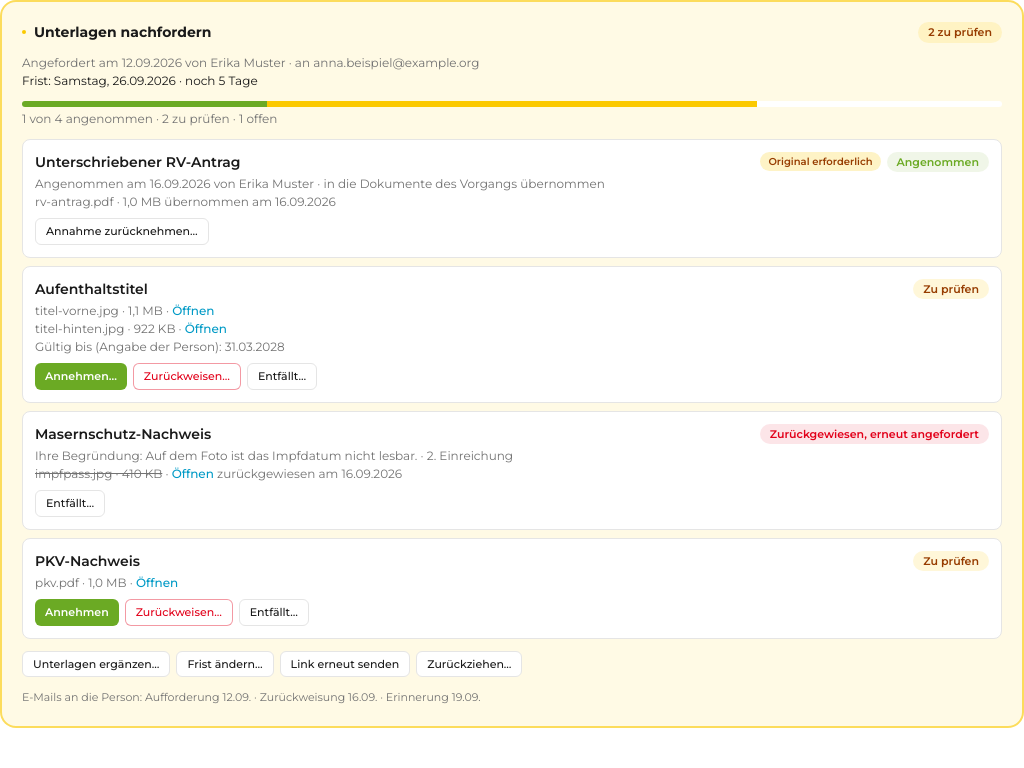
Test: Aktionen ausführen › Verbindungsfehler: kein Neuladen, rote Leiste
The width and height of the screenshot is (1024, 768).
Click the button with aria-label "Annehmen – PKV-Nachweis" at coordinates (77, 612), box left=35, top=599, right=119, bottom=626
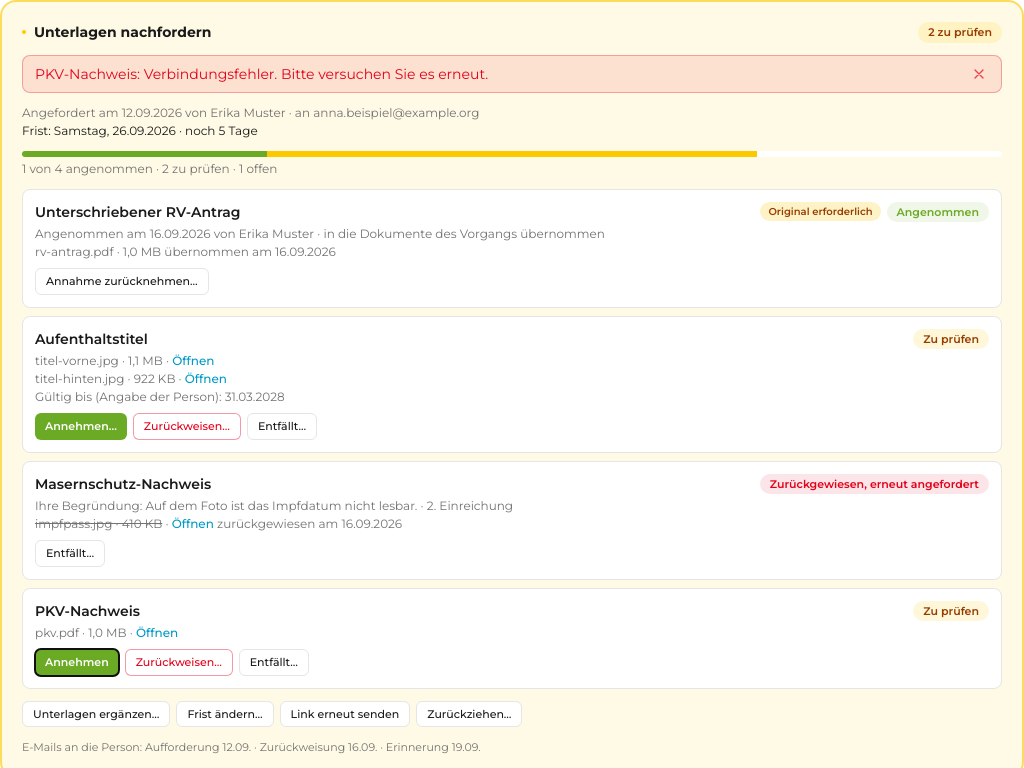
Expected: the message "PKV-Nachweis: Verbindungsfehler. Bitte versuchen Sie es erneut." is shown, left=22, top=54, right=1002, bottom=92
